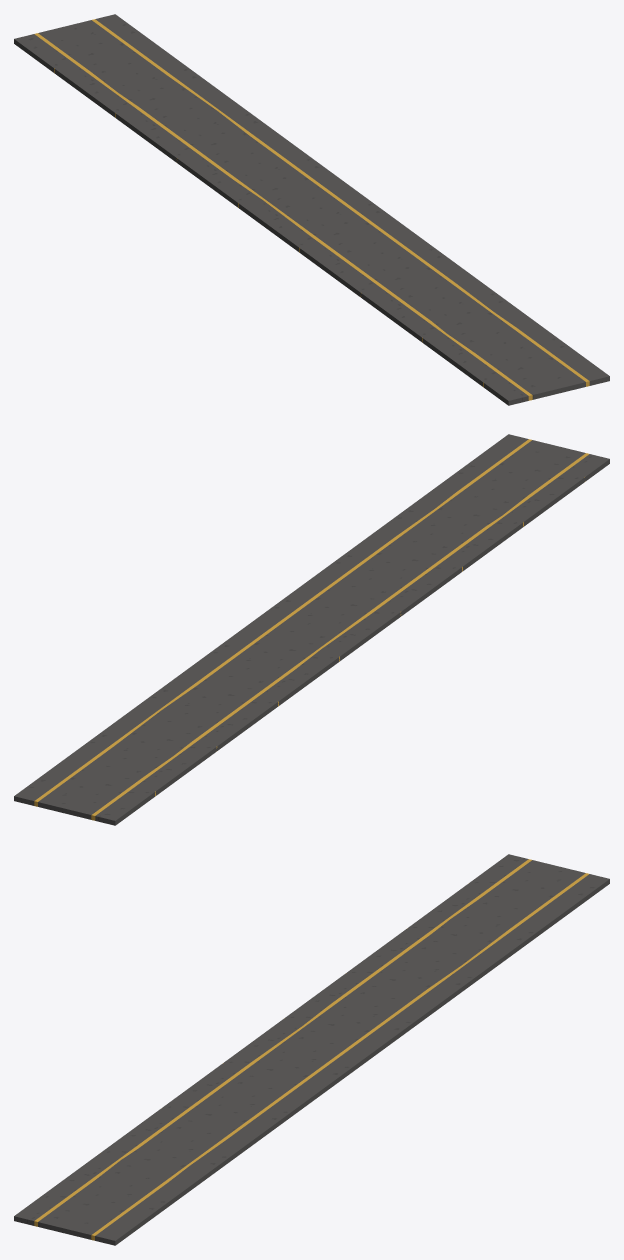
Rendered from road1_4.fbx.
The picture shows the model from 3 angles, top to bottom: view 1: azimuth 30°, elevation 25°; view 2: azimuth 150°, elevation 25°; view 3: azimuth 330°, elevation 25°; orthographic projection.
Parts seen in each view (by area): view 1: SM_Env_Ground_Lines_01; view 2: SM_Env_Ground_Lines_01; view 3: SM_Env_Ground_Lines_01.
Part boxes in pixels (left/top/right/bottom): SM_Env_Ground_Lines_01: left=14, top=14, right=609, bottom=405; SM_Env_Ground_Lines_01: left=14, top=434, right=609, bottom=825; SM_Env_Ground_Lines_01: left=14, top=854, right=609, bottom=1245.
Bounding box in the file's own units: 3002 × 138 × 25370.
1 material, 1 textured.
